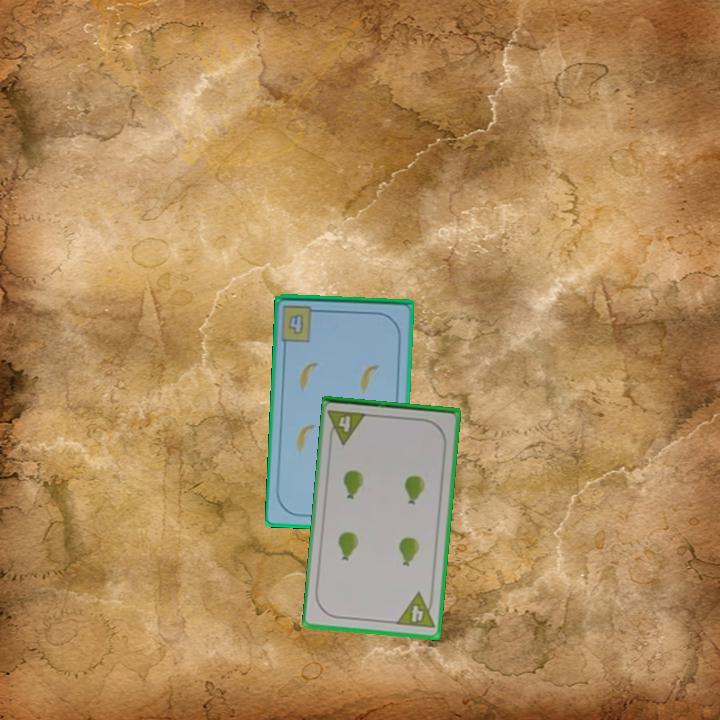4b: (285, 311, 307, 338)
4p: (393, 589, 437, 632), (325, 406, 370, 447)
